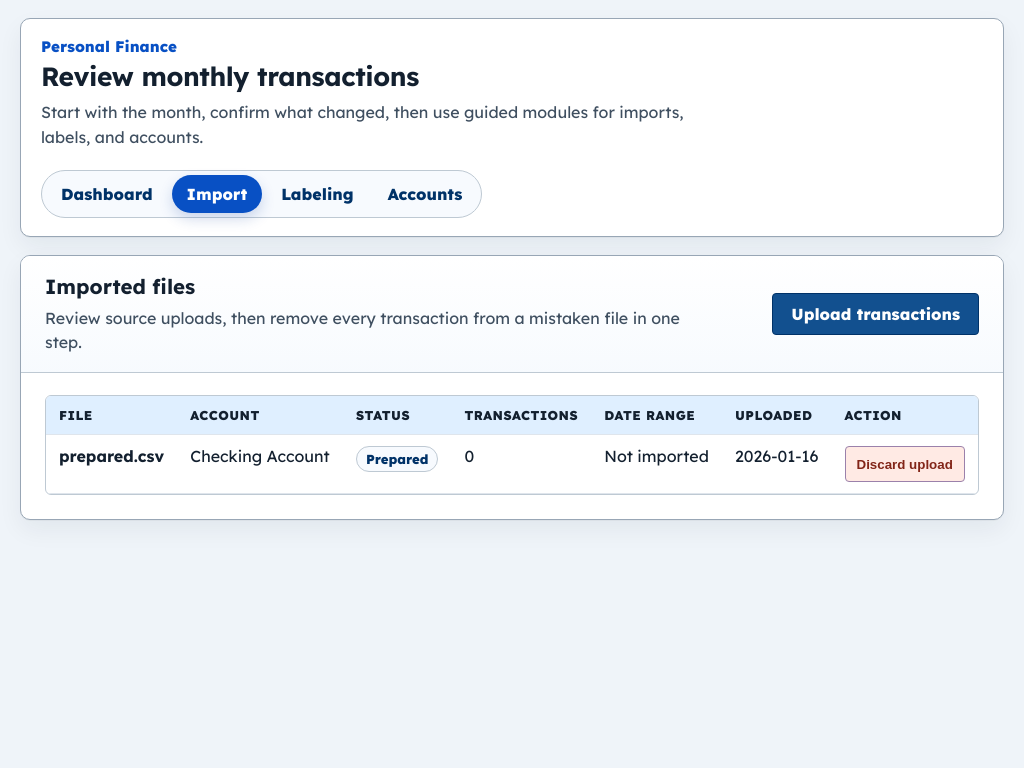
it: App › allows prepared uploads with no imported transactions to be discarded
Check: the text "prepared.csv" is shown, box [59,446,164,466]
Click the button "Discard upload" at (905, 464), box [844,446,965,482]
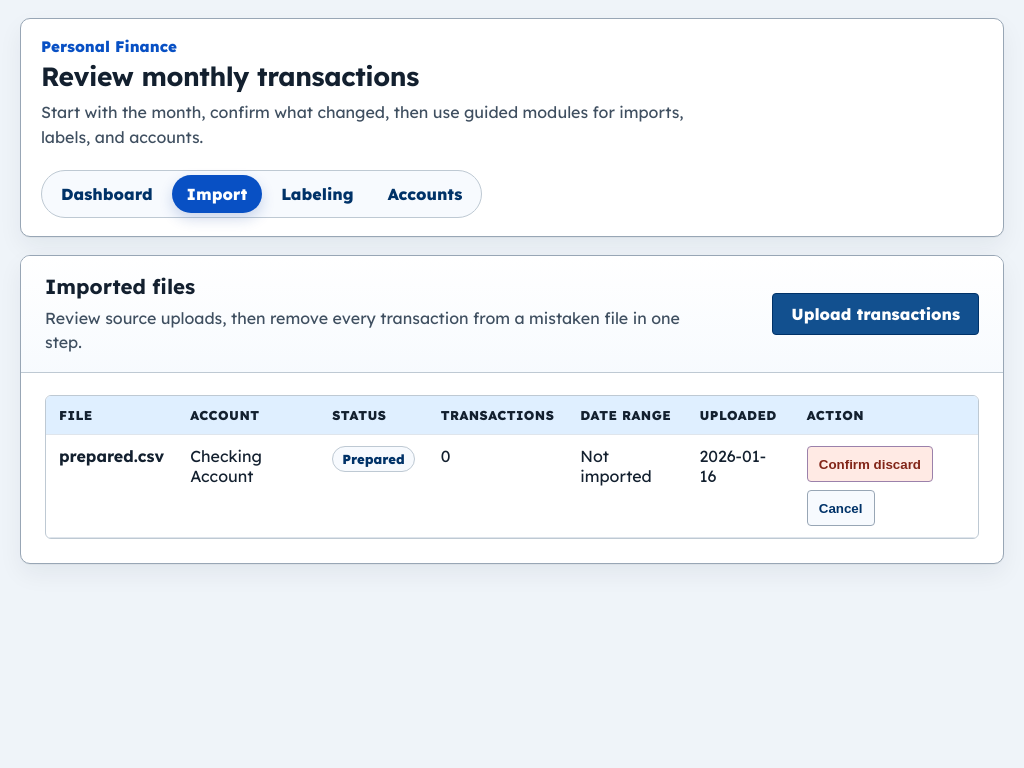
Click the button "Confirm discard" at (870, 464), box [807,446,933,482]
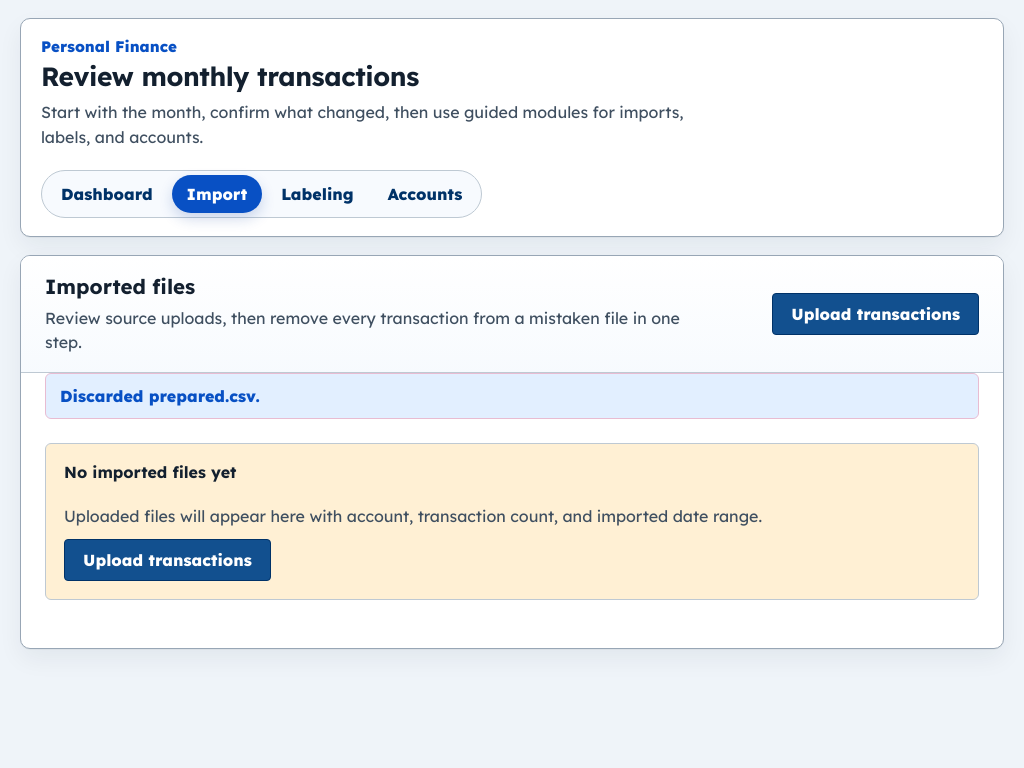
Check: the text "Discarded prepared.csv." is shown, box [45,373,979,419]
